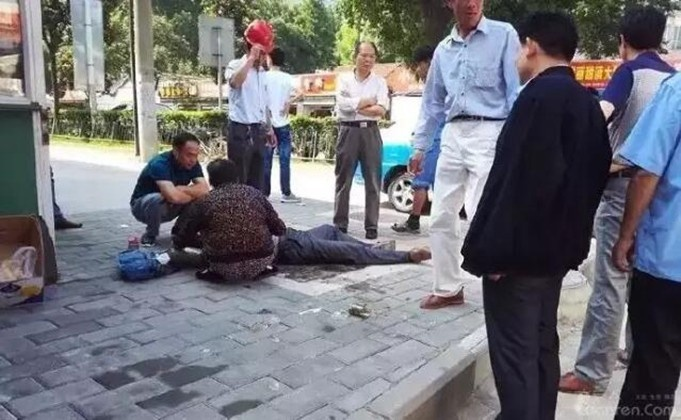falling: (262, 207, 433, 272)
